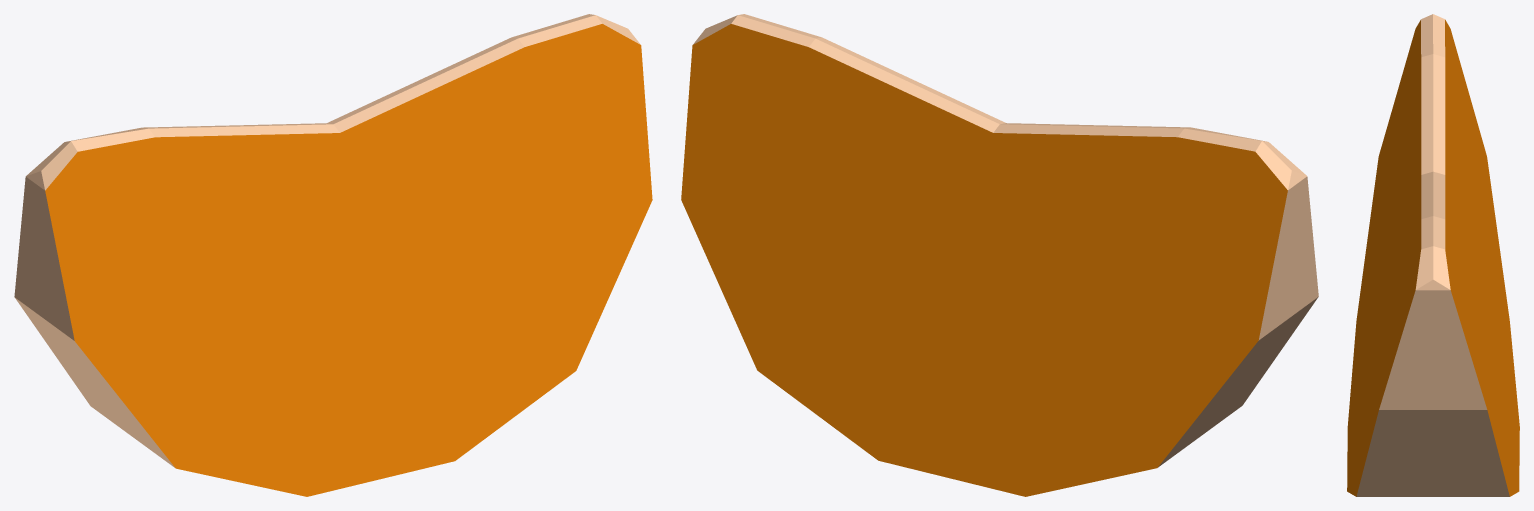
Rendered from clementine03.obj.
3 renders of one model, left to right at view 1: azimuth 30°, elevation 25°; view 2: azimuth 150°, elevation 25°; view 3: azimuth 270°, elevation 25°, orthographic. The views are drawn at different scales.
Parts seen in each view (by area): view 1: Cylinder; view 2: Cylinder; view 3: Cylinder.
Boxes of the visible parts, box(x1,y1,x2,y2) form: Cylinder: box(14, 14, 652, 496); Cylinder: box(681, 14, 1318, 496); Cylinder: box(1347, 14, 1519, 496).
Size of the model in its own units: 0.0404 by 0.0238 by 0.0113.
1 material, 1 textured.
